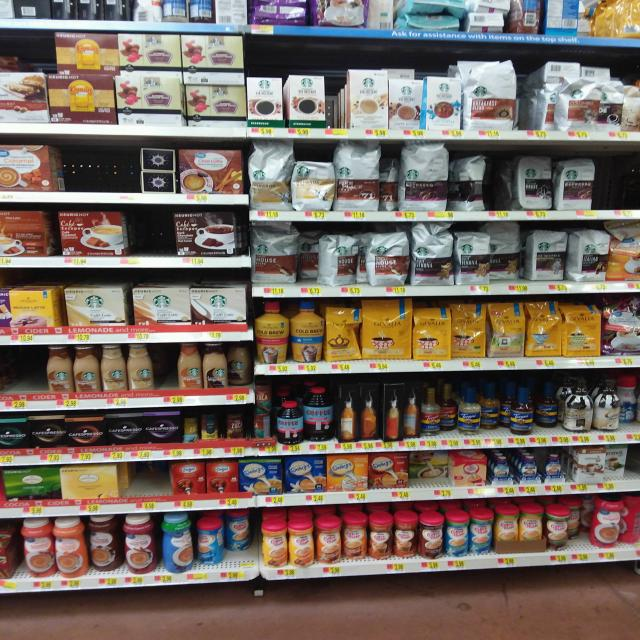void: (595, 144, 640, 219), (53, 135, 96, 202), (1, 346, 44, 411), (99, 134, 138, 203), (130, 204, 171, 267), (121, 463, 169, 512)
